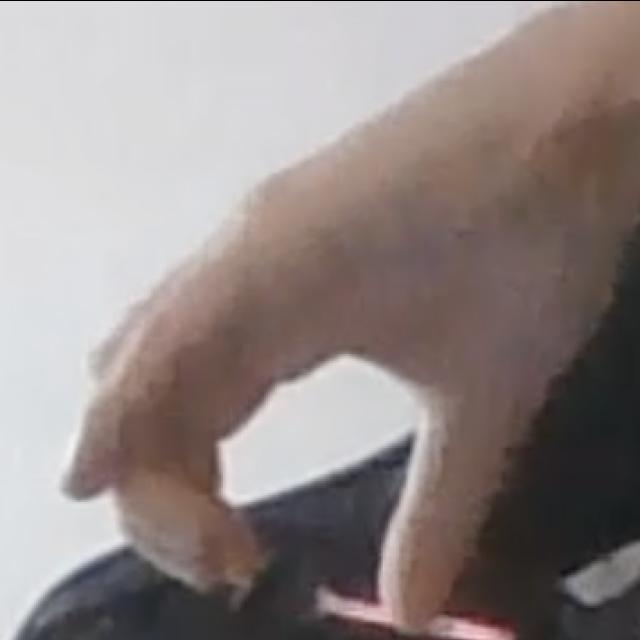C: (53, 19, 626, 630)
